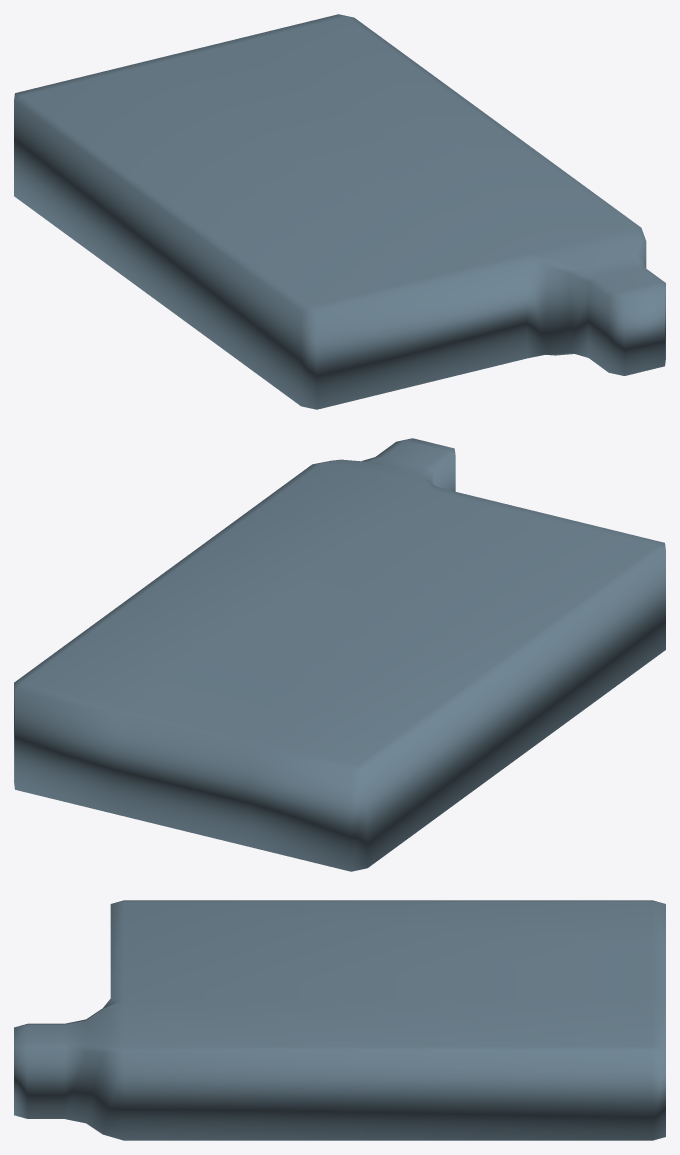
Rendered from Vape.fbx.
3 renders of one model, top to bottom at view 1: azimuth 30°, elevation 25°; view 2: azimuth 150°, elevation 25°; view 3: azimuth 270°, elevation 25°, orthographic. The views are drawn at different scales.
Visible parts, largest first — view 1: Vape; view 2: Vape; view 3: Vape.
Boxes of the visible parts, <box> form: Vape: <box>14,14,665,409</box>; Vape: <box>14,438,665,871</box>; Vape: <box>14,900,665,1140</box>.
Bounding box in the file's own units: 0.1235 × 0.2229 × 0.0348.
